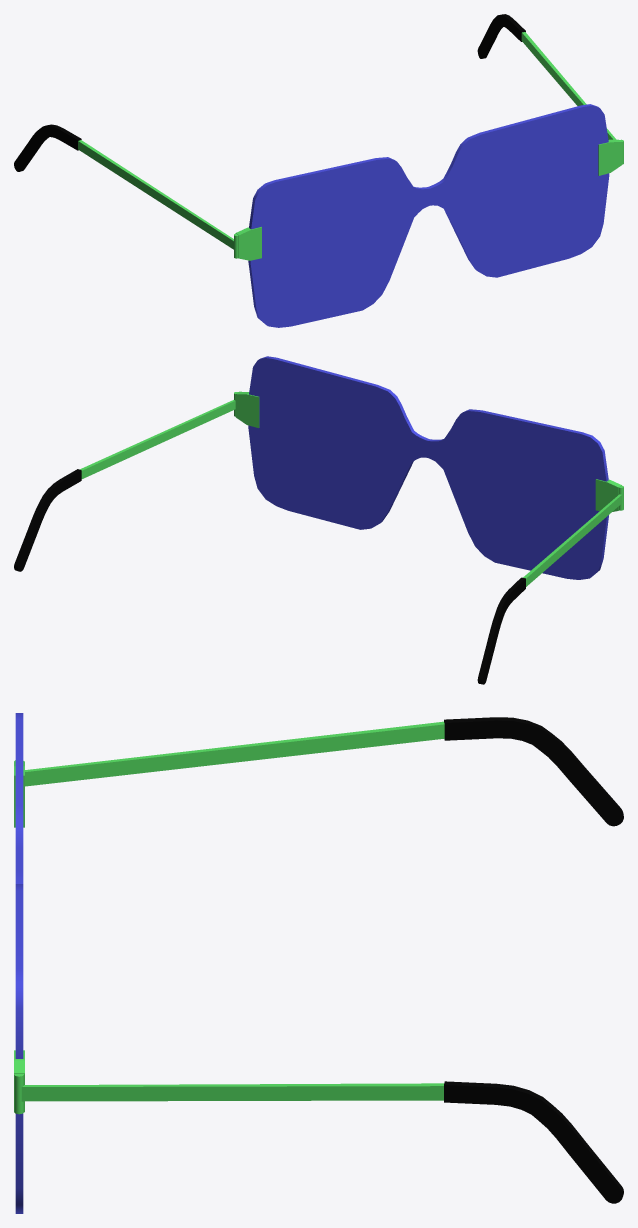
The model's file is Glasses.glb.
3 views of the same model, one above another, from view 1: azimuth 30°, elevation 25°; view 2: azimuth 150°, elevation 25°; view 3: azimuth 270°, elevation 25° (orthographic). The views are drawn at different scales.
Visible parts, largest first — view 1: glasses18.001; view 2: glasses18.001; view 3: glasses18.001.
Part boxes in pixels (x1,y1,x2,y2): glasses18.001: [14, 14, 623, 327]; glasses18.001: [14, 356, 623, 684]; glasses18.001: [14, 713, 623, 1213].
Bounding box in the file's own units: 2.15 × 0.657 × 1.45.
